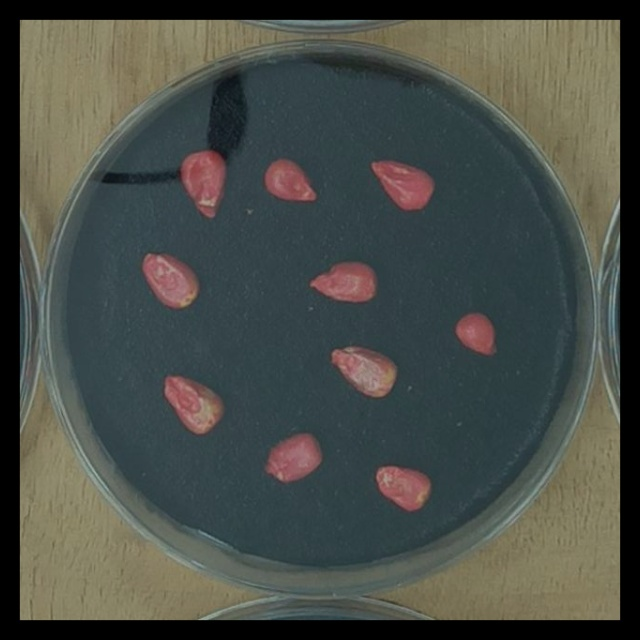Zea mays: (156, 366, 231, 441), (323, 337, 404, 405), (135, 244, 206, 316), (174, 144, 233, 227), (302, 252, 382, 312), (365, 154, 441, 216), (258, 424, 329, 487), (368, 457, 438, 516), (260, 153, 323, 210), (448, 304, 502, 361)
